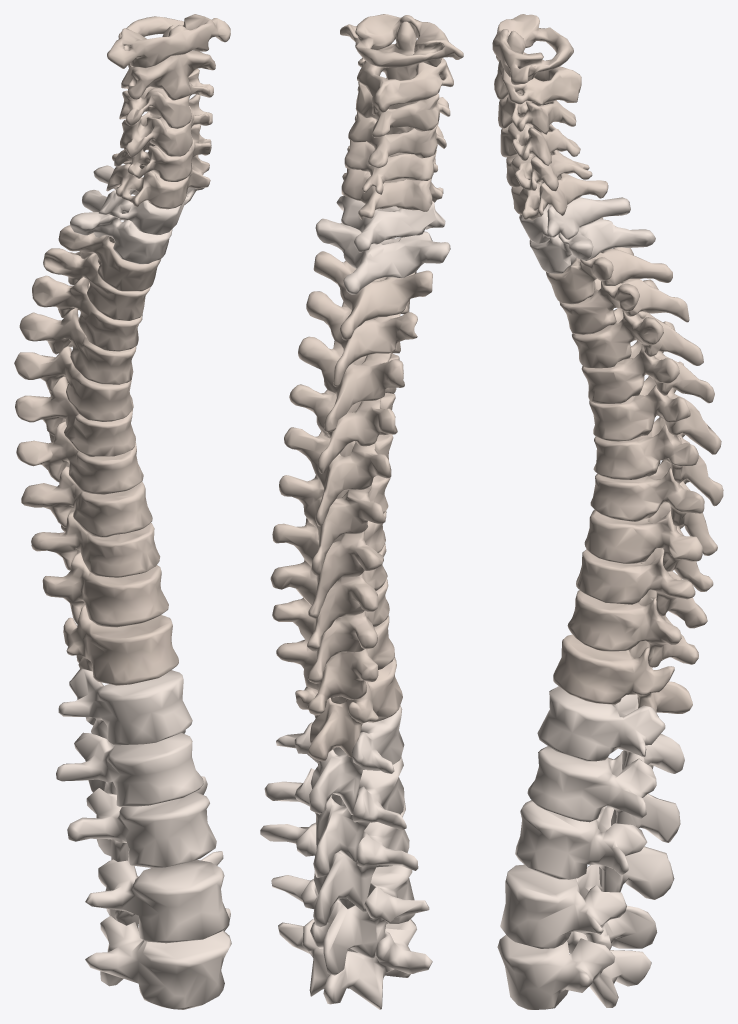
File: vertebrae.glb
3 views of the same model, side by side, from view 1: azimuth 30°, elevation 25°; view 2: azimuth 150°, elevation 25°; view 3: azimuth 270°, elevation 25° (orthographic). The views are drawn at different scales.
Visible parts, largest first — view 1: VH_M_lumbar_vertebra_4, VH_M_lumbar_vertebra_5, VH_M_lumbar_vertebra_3, VH_M_lumbar_vertebra_2, VH_M_lumbar_vertebra_1, VH_M_thoracic_vertebra_12, VH_M_thoracic_vertebra_11, VH_M_thoracic_vertebra_9, VH_M_thoracic_vertebra_10, VH_M_thoracic_vertebra_8, VH_M_cervical_vertebra_1, VH_M_thoracic_vertebra_7 (+12 smaller); view 2: VH_M_lumbar_vertebra_4, VH_M_lumbar_vertebra_2, VH_M_lumbar_vertebra_3, VH_M_lumbar_vertebra_5, VH_M_lumbar_vertebra_1, VH_M_thoracic_vertebra_12, VH_M_thoracic_vertebra_1, VH_M_thoracic_vertebra_4, VH_M_thoracic_vertebra_7, VH_M_thoracic_vertebra_11, VH_M_thoracic_vertebra_8, VH_M_thoracic_vertebra_6 (+12 smaller); view 3: VH_M_lumbar_vertebra_4, VH_M_lumbar_vertebra_3, VH_M_lumbar_vertebra_2, VH_M_lumbar_vertebra_5, VH_M_lumbar_vertebra_1, VH_M_thoracic_vertebra_12, VH_M_thoracic_vertebra_11, VH_M_thoracic_vertebra_9, VH_M_thoracic_vertebra_10, VH_M_thoracic_vertebra_8, VH_M_thoracic_vertebra_7, VH_M_thoracic_vertebra_6 (+12 smaller).
Boxes of the visible parts, x1=… form: VH_M_lumbar_vertebra_4: x1=85, y1=851, x2=229, y2=943; VH_M_lumbar_vertebra_5: x1=85, y1=908, x2=231, y2=1009; VH_M_lumbar_vertebra_3: x1=67, y1=776, x2=216, y2=868; VH_M_lumbar_vertebra_2: x1=56, y1=730, x2=203, y2=806; VH_M_lumbar_vertebra_1: x1=58, y1=668, x2=192, y2=746; VH_M_thoracic_vertebra_12: x1=63, y1=605, x2=178, y2=685; VH_M_thoracic_vertebra_11: x1=42, y1=552, x2=168, y2=627; VH_M_thoracic_vertebra_9: x1=21, y1=466, x2=152, y2=537; VH_M_thoracic_vertebra_10: x1=31, y1=510, x2=160, y2=577; VH_M_thoracic_vertebra_8: x1=16, y1=421, x2=143, y2=494; VH_M_cervical_vertebra_1: x1=107, y1=14, x2=230, y2=68; VH_M_thoracic_vertebra_7: x1=15, y1=376, x2=135, y2=456; VH_M_lumbar_vertebra_4: x1=271, y1=865, x2=429, y2=975; VH_M_lumbar_vertebra_2: x1=264, y1=756, x2=406, y2=877; VH_M_lumbar_vertebra_3: x1=260, y1=801, x2=418, y2=927; VH_M_lumbar_vertebra_5: x1=278, y1=919, x2=432, y2=1009; VH_M_lumbar_vertebra_1: x1=276, y1=705, x2=404, y2=814; VH_M_thoracic_vertebra_12: x1=295, y1=657, x2=402, y2=761; VH_M_thoracic_vertebra_1: x1=315, y1=218, x2=450, y2=294; VH_M_thoracic_vertebra_4: x1=298, y1=336, x2=404, y2=432; VH_M_thoracic_vertebra_7: x1=279, y1=475, x2=390, y2=575; VH_M_thoracic_vertebra_11: x1=276, y1=616, x2=394, y2=715; VH_M_thoracic_vertebra_8: x1=272, y1=511, x2=386, y2=618; VH_M_thoracic_vertebra_6: x1=284, y1=427, x2=393, y2=526; VH_M_lumbar_vertebra_4: x1=500, y1=864, x2=657, y2=950; VH_M_lumbar_vertebra_3: x1=515, y1=800, x2=674, y2=899; VH_M_lumbar_vertebra_2: x1=527, y1=746, x2=680, y2=842; VH_M_lumbar_vertebra_5: x1=497, y1=931, x2=651, y2=1009; VH_M_lumbar_vertebra_1: x1=537, y1=686, x2=684, y2=773; VH_M_thoracic_vertebra_12: x1=553, y1=634, x2=692, y2=713; VH_M_thoracic_vertebra_11: x1=567, y1=590, x2=698, y2=667; VH_M_thoracic_vertebra_9: x1=584, y1=502, x2=713, y2=591; VH_M_thoracic_vertebra_10: x1=576, y1=548, x2=707, y2=628; VH_M_thoracic_vertebra_8: x1=590, y1=460, x2=717, y2=555; VH_M_thoracic_vertebra_7: x1=593, y1=417, x2=723, y2=506; VH_M_thoracic_vertebra_6: x1=589, y1=361, x2=721, y2=454.
Size of the model in its own units: 0.1093 by 0.6148 by 0.1342.
